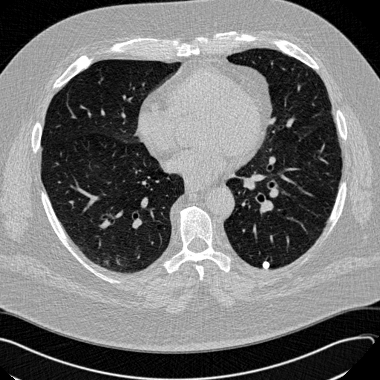nodule: (262, 261, 270, 269)
